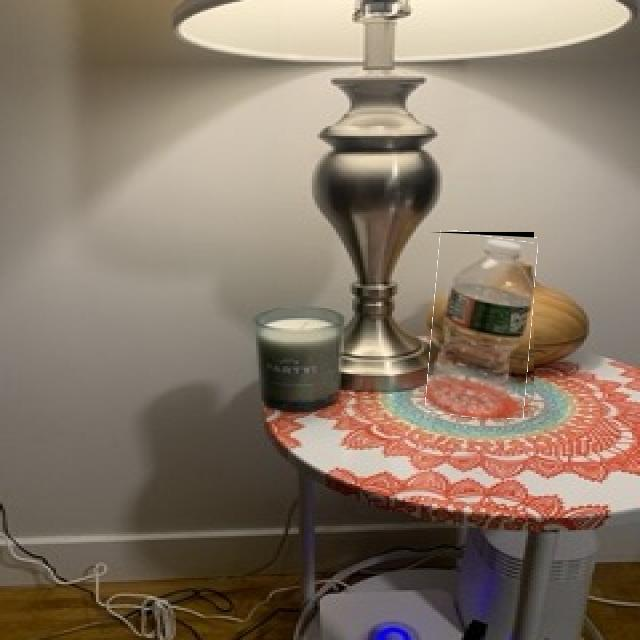water_bottle: (429, 232, 534, 418)
